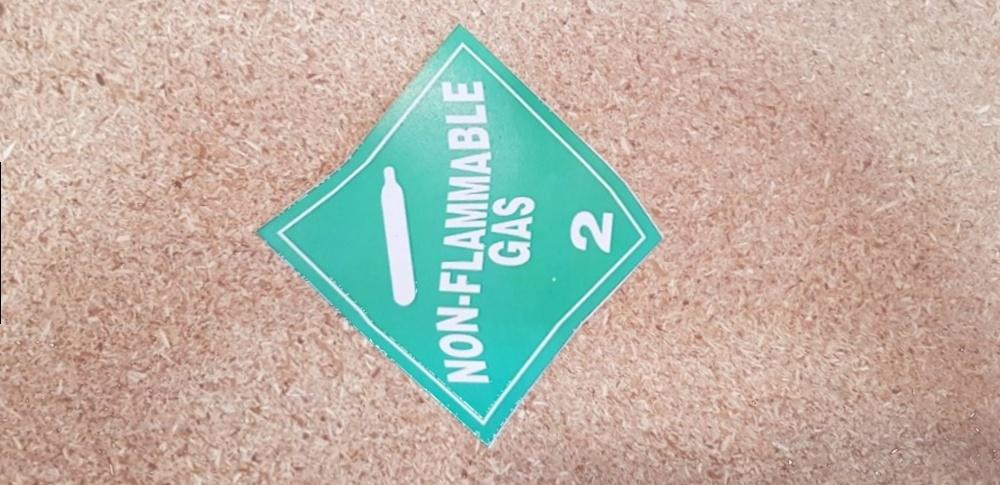non-flammable-gas: (1, 1, 681, 454)
